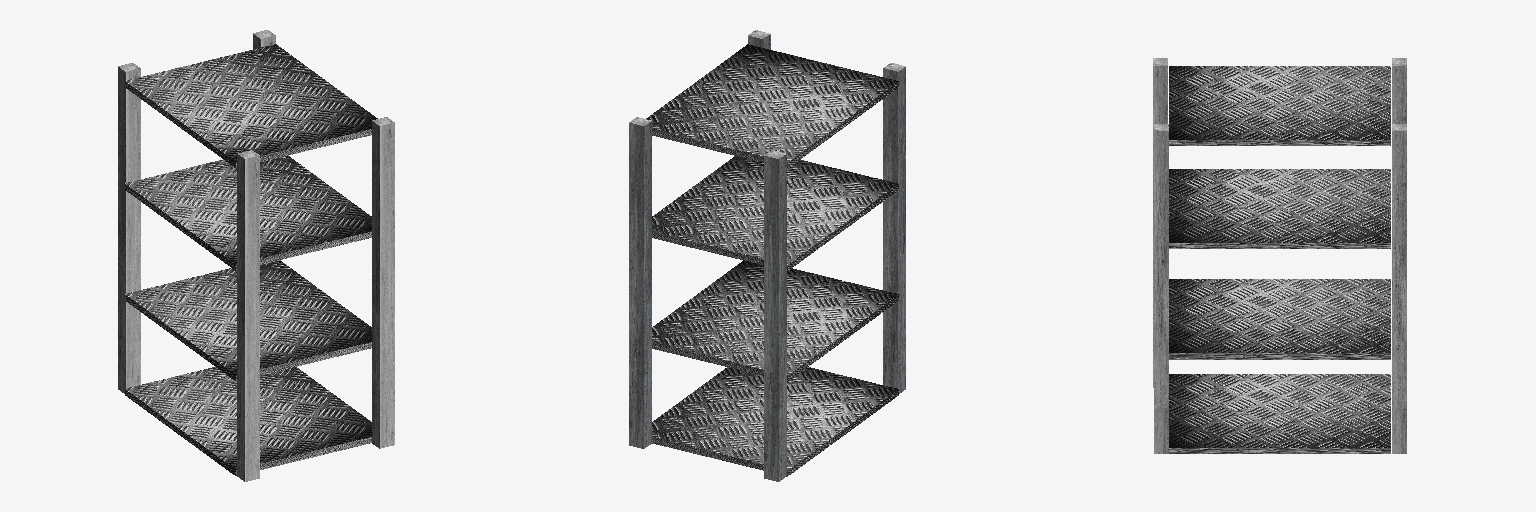
3 renders of one model, left to right at view 1: azimuth 30°, elevation 25°; view 2: azimuth 150°, elevation 25°; view 3: azimuth 270°, elevation 25°, orthographic.
Visible parts, largest first — view 1: Cube.007_Cube.008, Cube.005_Cube.006, Cube.006_Cube.007, Cube.004_Cube.005, Cube_Cube.001, Cube.003_Cube.004, Cube.001_Cube.002; view 2: Cube.007_Cube.008, Cube.005_Cube.006, Cube.006_Cube.007, Cube.004_Cube.005, Cube.001_Cube.002, Cube.002_Cube.003, Cube_Cube.001; view 3: Cube.005_Cube.006, Cube.004_Cube.005, Cube.006_Cube.007, Cube.007_Cube.008, Cube.002_Cube.003, Cube.003_Cube.004, Cube_Cube.001, Cube.001_Cube.002.
Boxes of the visible parts, x1=… form: Cube.007_Cube.008: x1=125, y1=44, x2=377, y2=167; Cube.005_Cube.006: x1=125, y1=260, x2=371, y2=380; Cube.006_Cube.007: x1=125, y1=156, x2=371, y2=270; Cube.004_Cube.005: x1=125, y1=367, x2=371, y2=475; Cube_Cube.001: x1=237, y1=150, x2=259, y2=481; Cube.003_Cube.004: x1=372, y1=117, x2=394, y2=448; Cube.001_Cube.002: x1=118, y1=63, x2=140, y2=393; Cube.007_Cube.008: x1=646, y1=44, x2=898, y2=168; Cube.005_Cube.006: x1=652, y1=260, x2=898, y2=381; Cube.006_Cube.007: x1=652, y1=156, x2=898, y2=270; Cube.004_Cube.005: x1=652, y1=367, x2=898, y2=476; Cube.001_Cube.002: x1=764, y1=150, x2=786, y2=481; Cube.002_Cube.003: x1=629, y1=117, x2=651, y2=448; Cube_Cube.001: x1=883, y1=63, x2=905, y2=393; Cube.005_Cube.006: x1=1169, y1=279, x2=1390, y2=359; Cube.004_Cube.005: x1=1169, y1=374, x2=1390, y2=453; Cube.006_Cube.007: x1=1169, y1=169, x2=1390, y2=248; Cube.007_Cube.008: x1=1169, y1=66, x2=1390, y2=145; Cube.002_Cube.003: x1=1392, y1=124, x2=1406, y2=453; Cube.003_Cube.004: x1=1154, y1=124, x2=1168, y2=453; Cube_Cube.001: x1=1153, y1=58, x2=1167, y2=387; Cube.001_Cube.002: x1=1392, y1=58, x2=1406, y2=123.
Size of the model in its own units: 3.45 by 7.04 by 5.02.
8 materials, 2 textured.